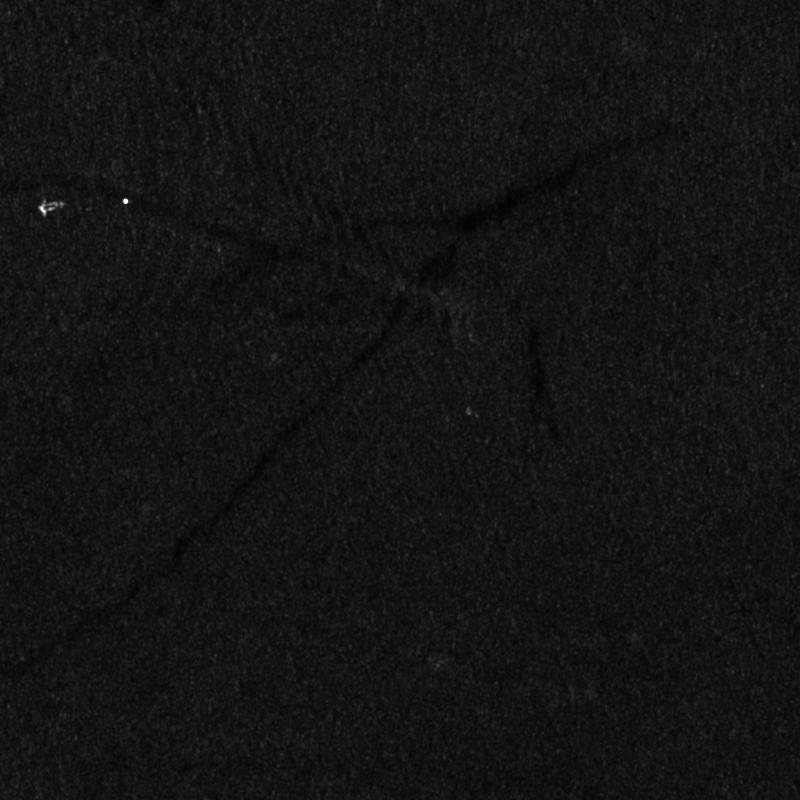ship: (37, 200, 64, 216)
